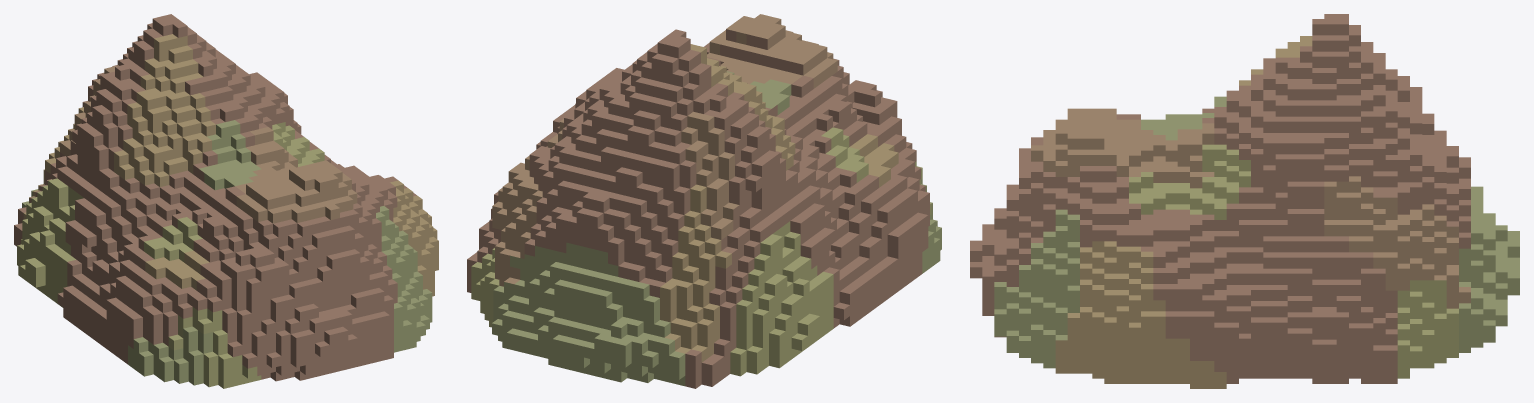
File: JunkPile1.fbx
The picture shows the model from 3 angles, left to right: view 1: azimuth 30°, elevation 25°; view 2: azimuth 150°, elevation 25°; view 3: azimuth 270°, elevation 25°; orthographic projection. The views are drawn at different scales.
Parts seen in each view (by area): view 1: Cube.055; view 2: Cube.055; view 3: Cube.055.
Part boxes in pixels (x1,y1,x2,y2): Cube.055: [14, 14, 438, 388]; Cube.055: [467, 14, 941, 388]; Cube.055: [970, 14, 1519, 388].
Bounding box in the file's own units: 616 × 466 × 839.
